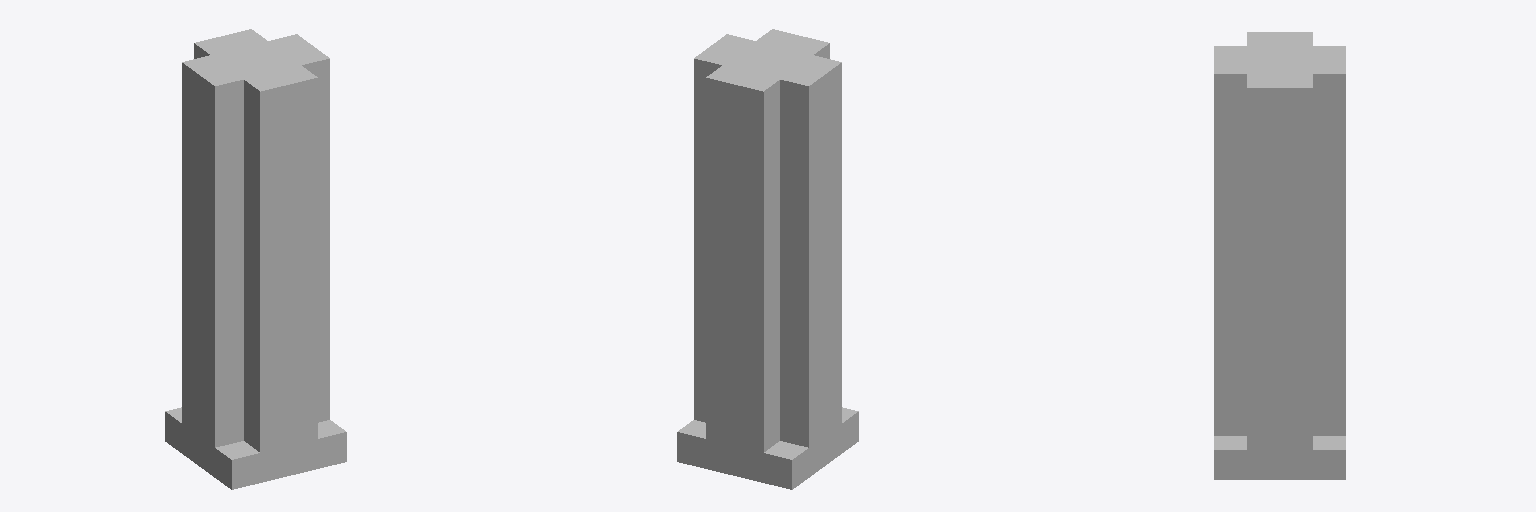
File: Package 01 Necro Dungeon-44.obj
3 renders of one model, left to right at view 1: azimuth 30°, elevation 25°; view 2: azimuth 150°, elevation 25°; view 3: azimuth 270°, elevation 25°, orthographic.
Visible parts, largest first — view 1: object 1; view 2: object 1; view 3: object 1.
Boxes of the visible parts, box(x1,y1,x2,y2) form: object 1: box(165, 29, 346, 489); object 1: box(677, 29, 858, 489); object 1: box(1214, 32, 1345, 479).
Bounding box in the file's own units: 0.4 × 1.3 × 0.4.